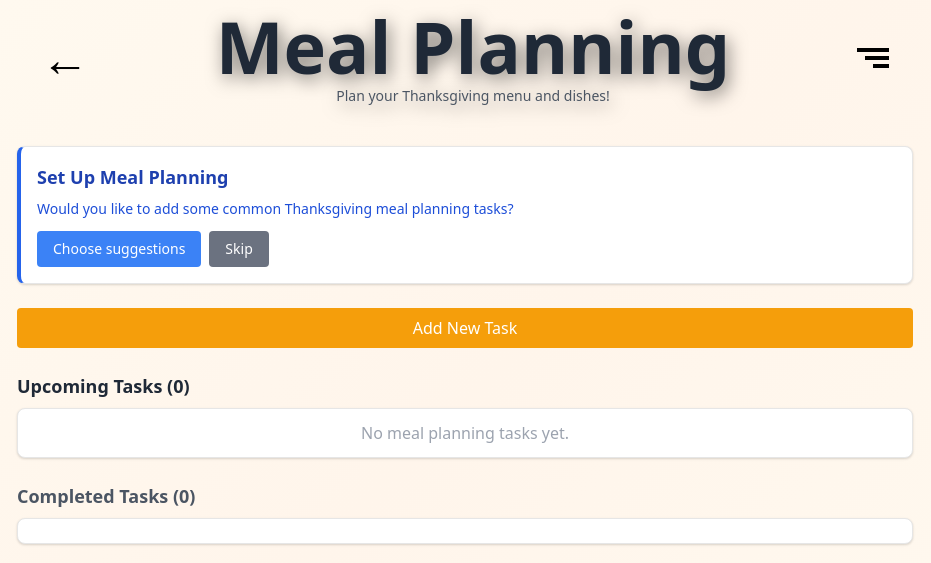
Thanksgiving meal planning suggestions › can be skipped
What coordinates should you click on to do the following:
click the button "Skip"
I would click on:
 (239, 249)
Its box is left=209, top=231, right=269, bottom=267.
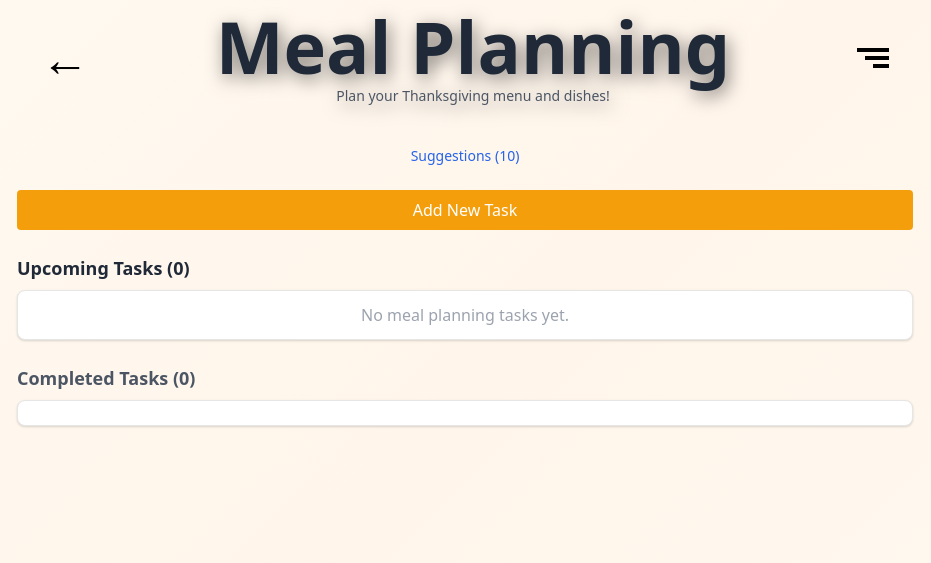
Now the button "Choose suggestions" is gone
